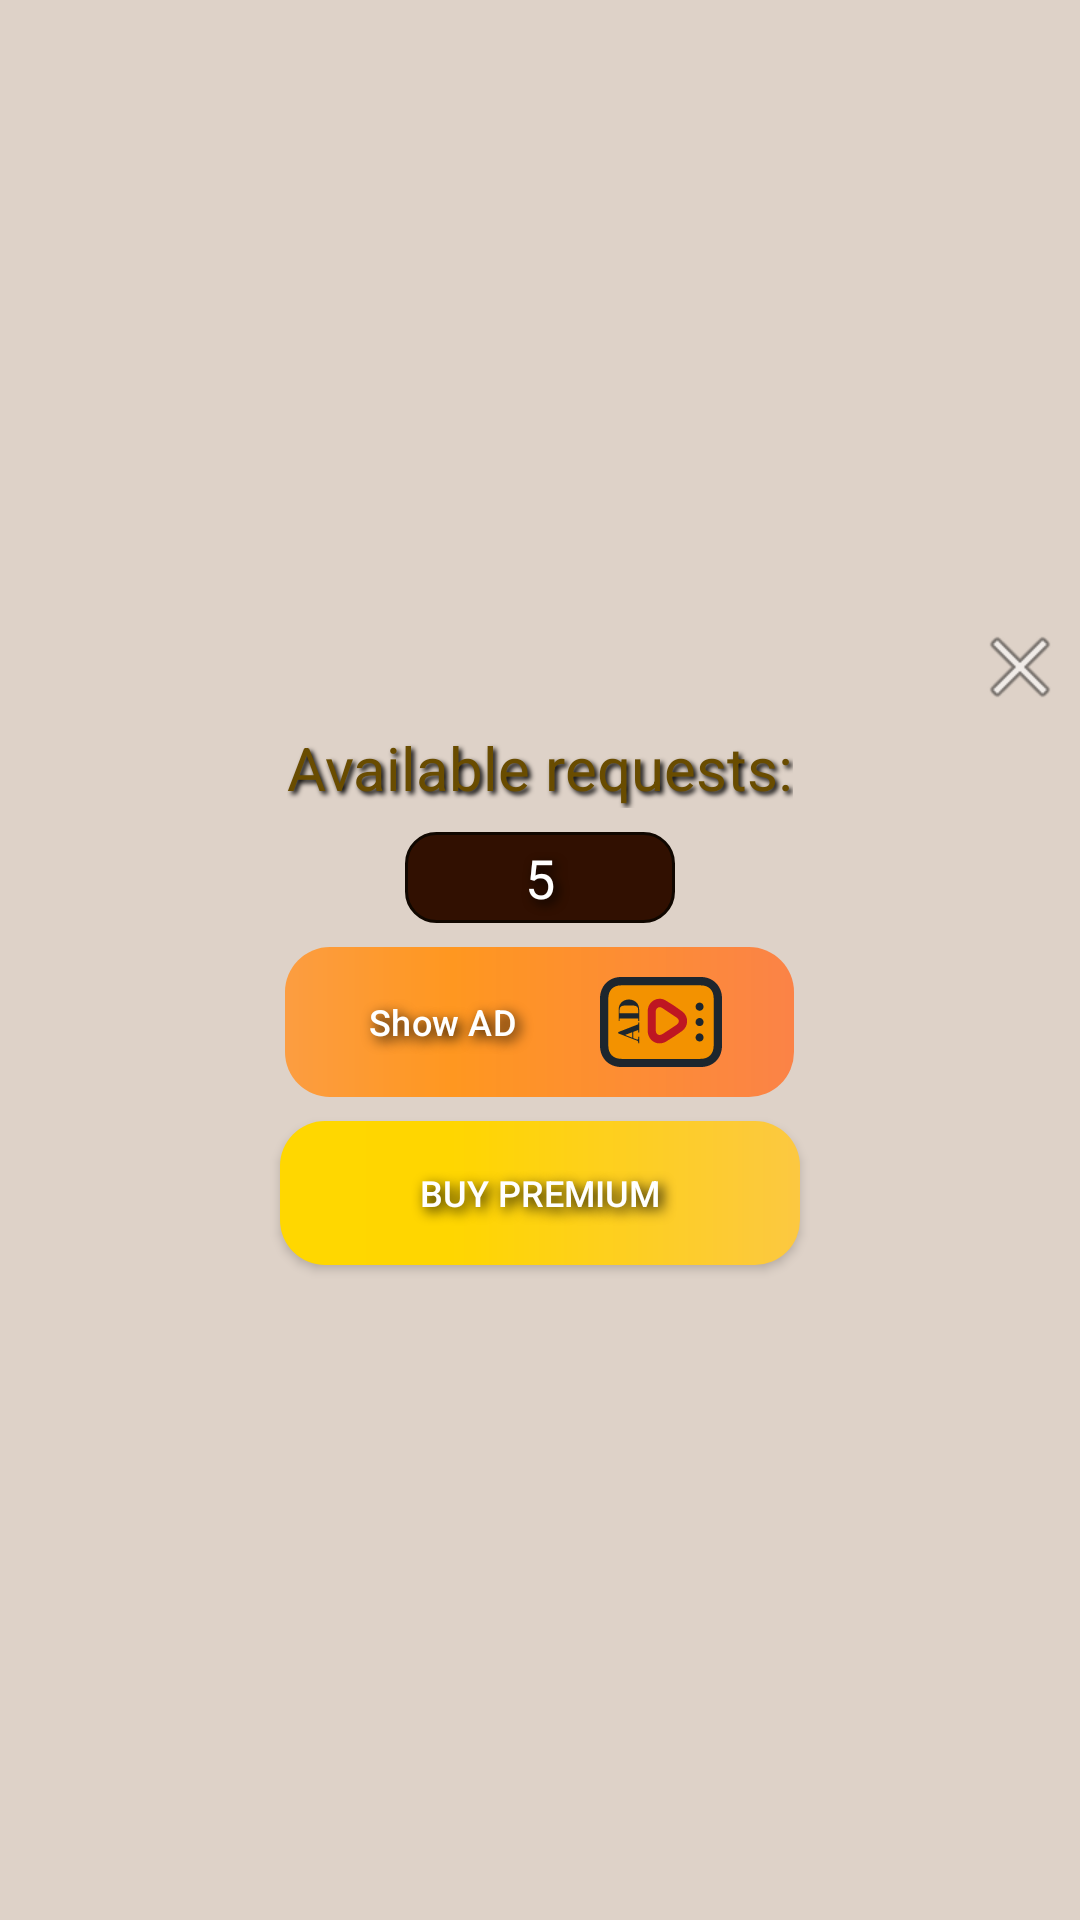

Named icons in this screenshot (1080px x 1920px) and their centers, [x,y]:
close clear cancel: [1020,667]
